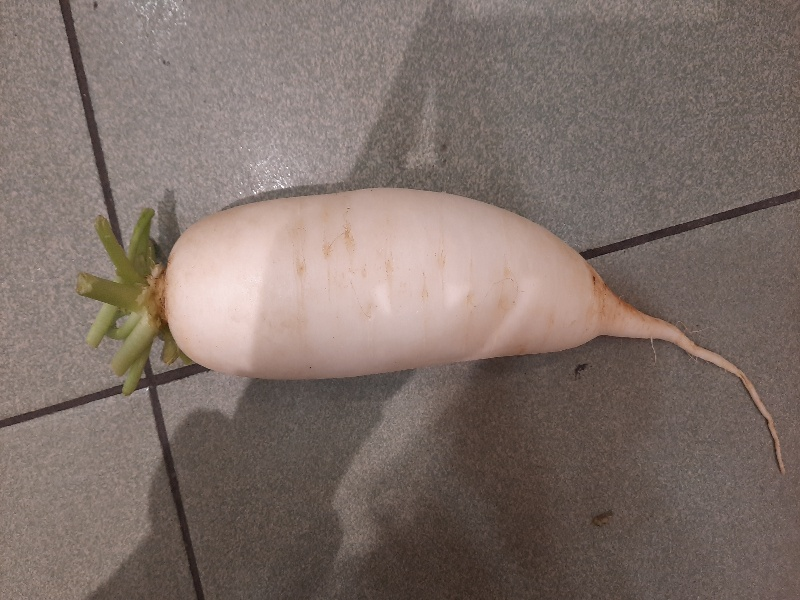vege: (65, 185, 793, 480)
